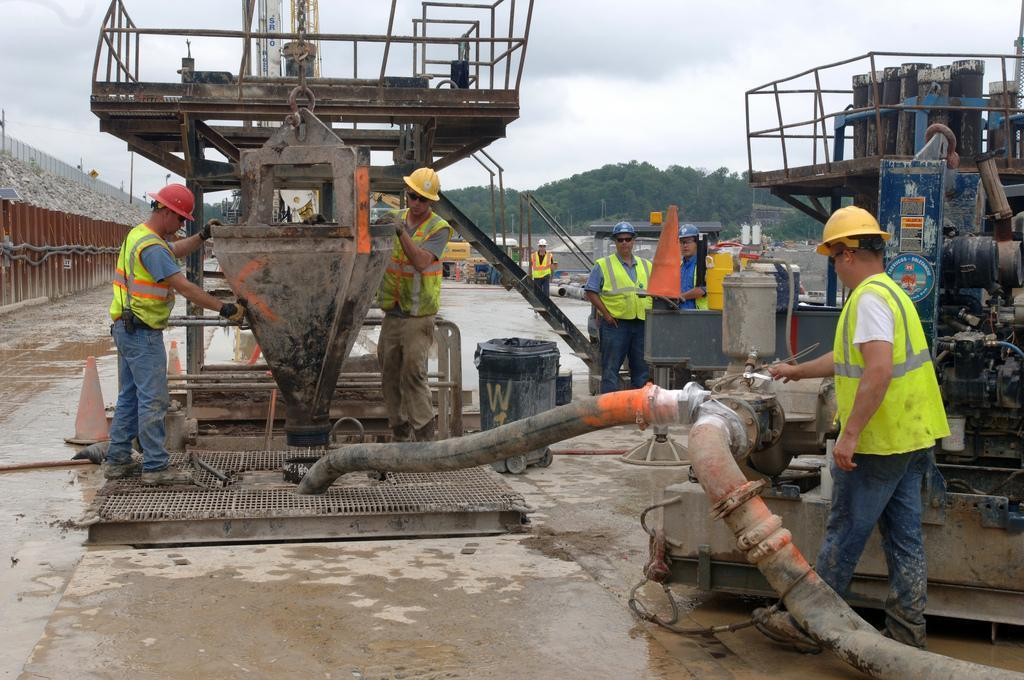vest: (818, 277, 940, 461), (378, 201, 447, 309), (112, 220, 179, 329), (593, 251, 659, 319)
